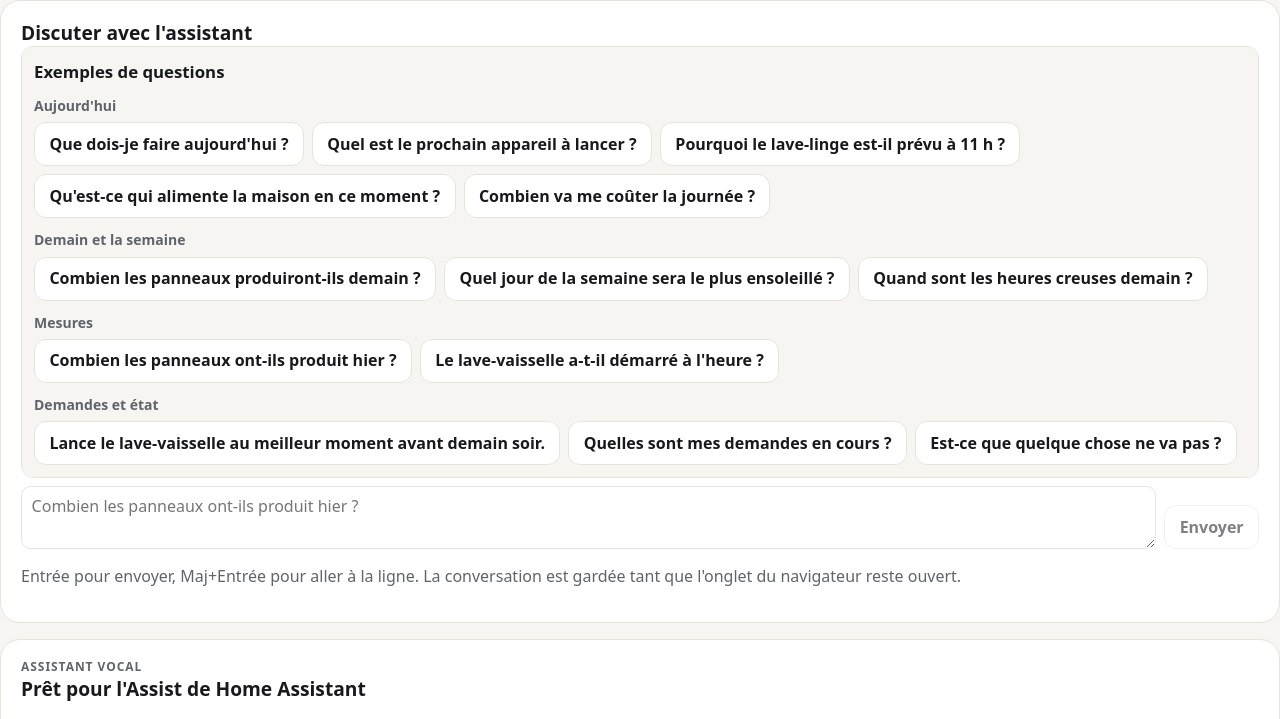
page « Assistant » › les questions d'exemple, par thème, remplissent la zone de saisie du chat
(page scrolled)
Expected: the list named "Demandes et état" is shown, [34,421,1246,465]
Click the button "Quelles sont mes demandes en cours ?": (738, 443) [568,421,907,465]
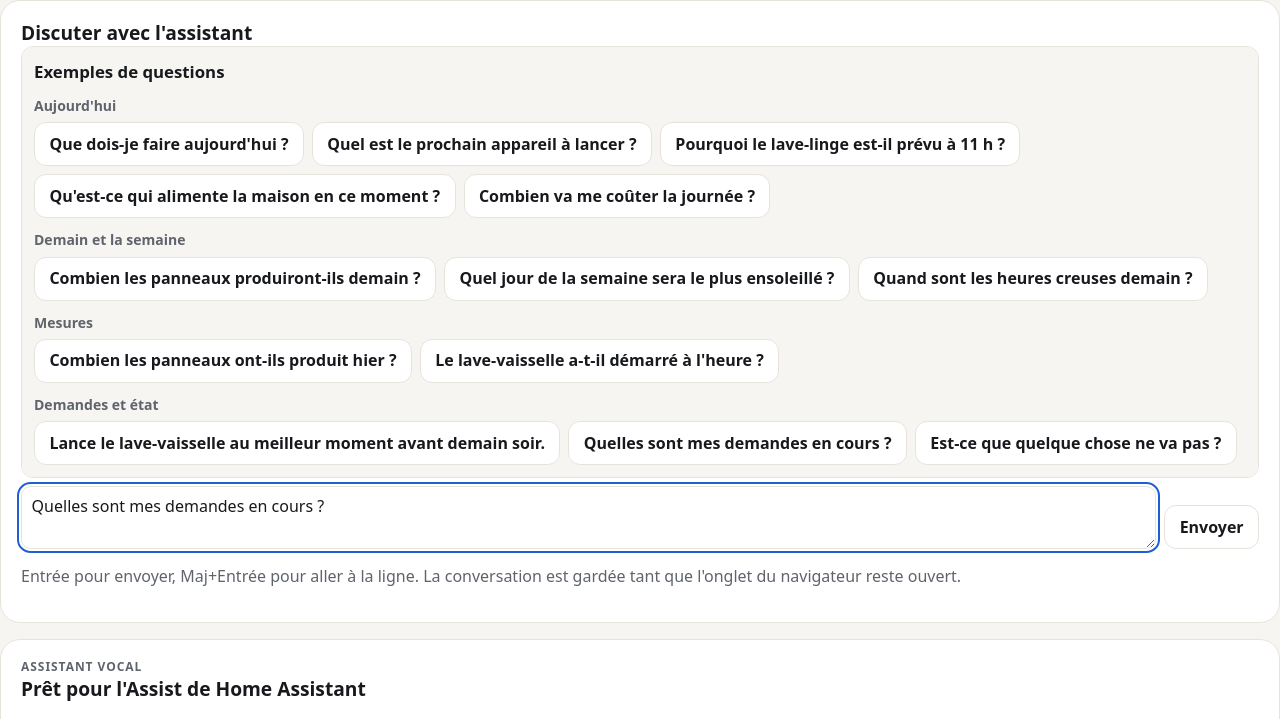
Expected: the text box named "Votre message" holds "Quelles sont mes demandes en cours ?", [21,486,1156,549]
